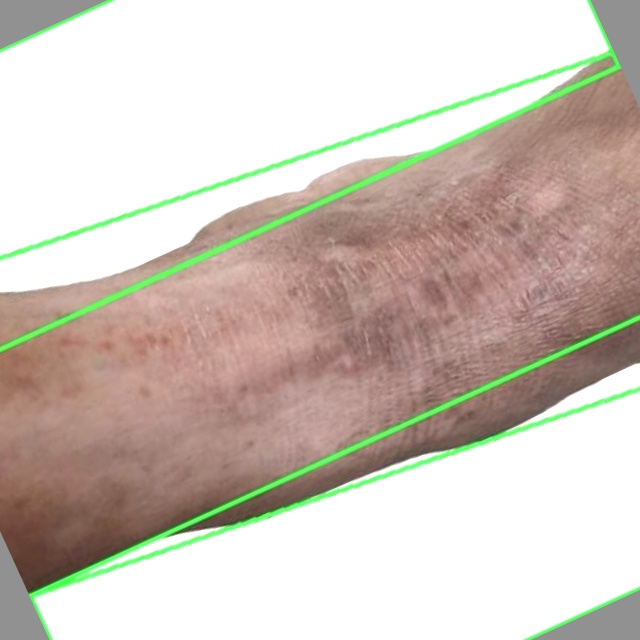Eczema: (0, 54, 639, 593), (0, 0, 619, 349)
